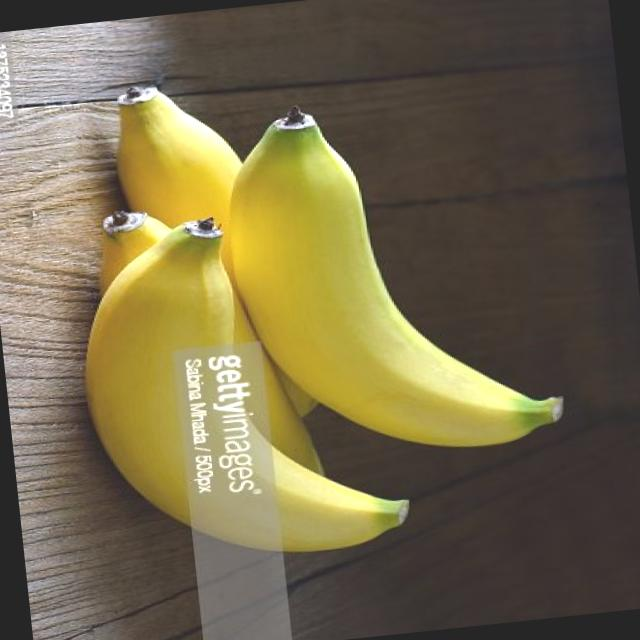banana: (54, 46, 582, 574)
